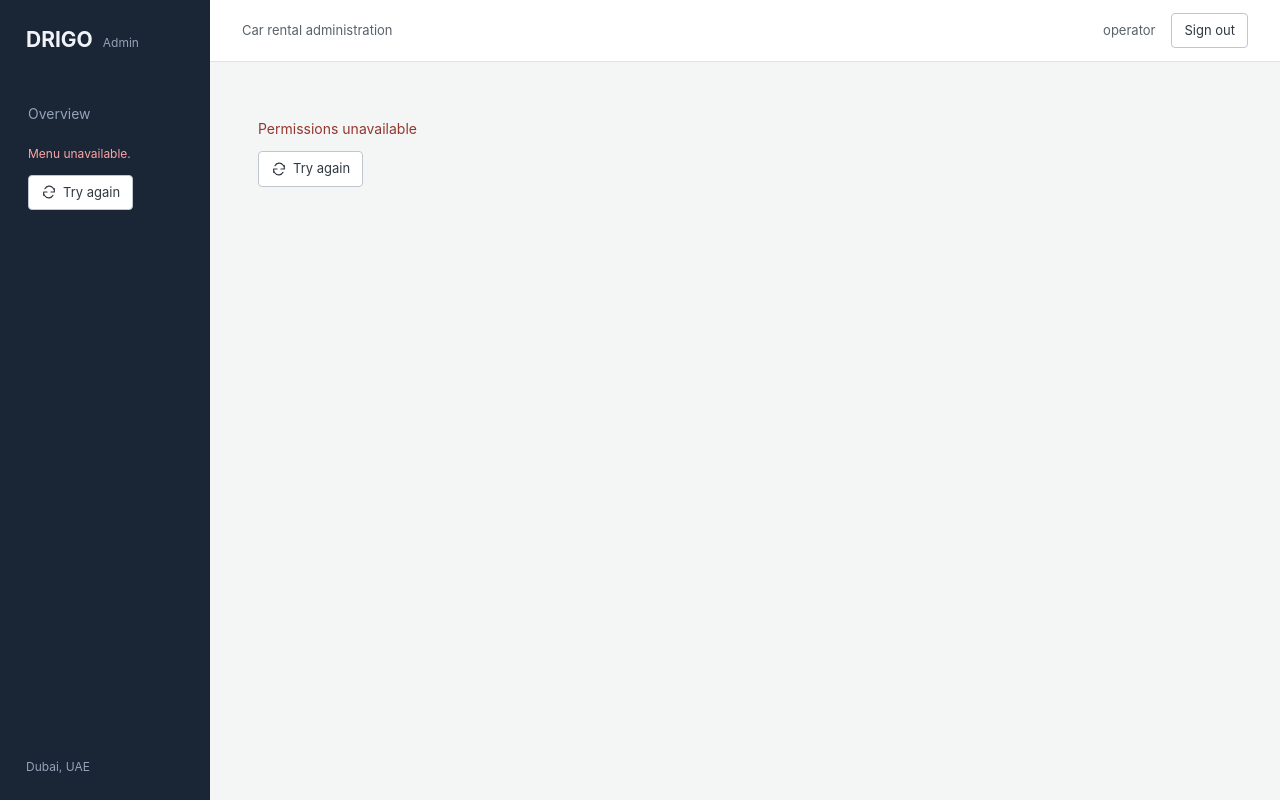
Scenario: permission navigation › fails closed when permissions fail, then retries
Expected: the text "Permissions unavailable" is shown, x1=258 y1=120 x2=417 y2=137
Expected: the link "Cars" is not shown
Step 1. Click the button "Try again" below "Permissions unavailable" → [311, 169], box x1=258 y1=151 x2=363 y2=186
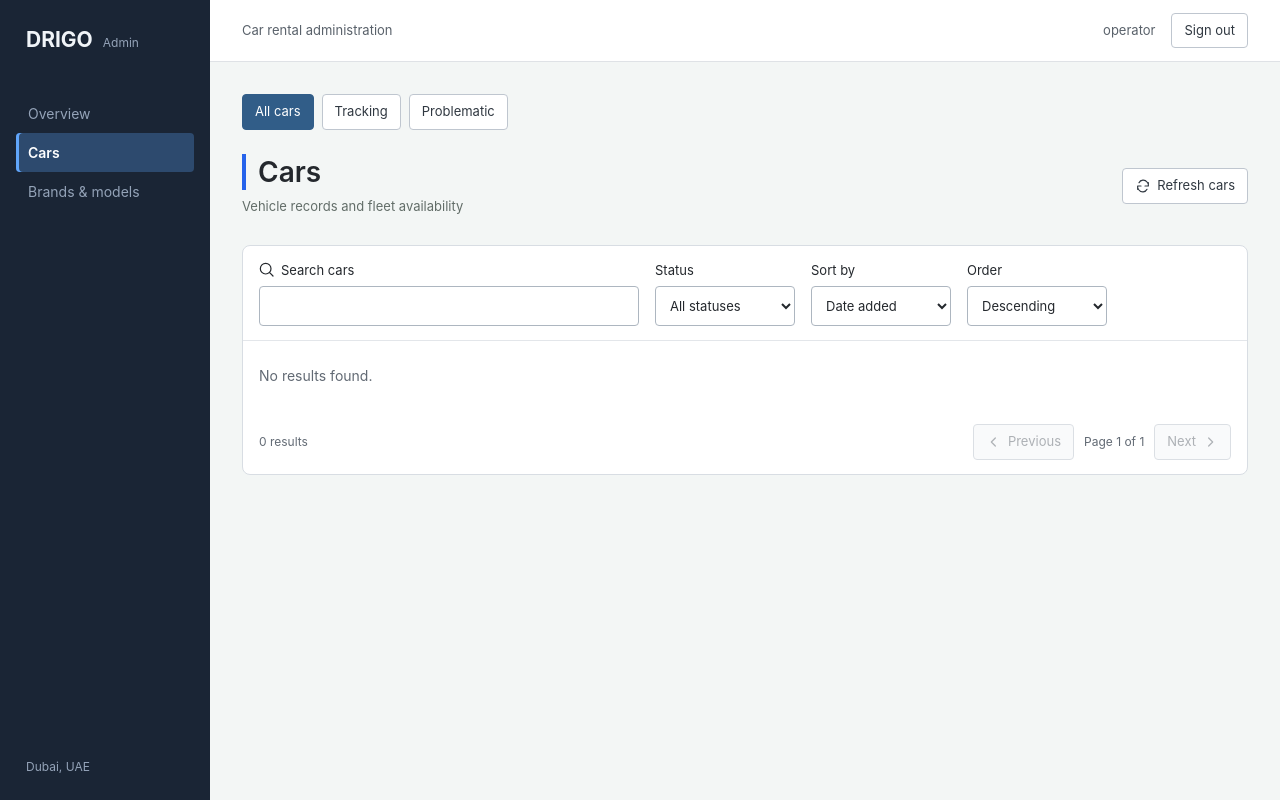
Now the heading "Cars" is shown, box x1=242 y1=154 x2=463 y2=190
Now the link "Cars" is shown, box x1=16 y1=132 x2=194 y2=172
